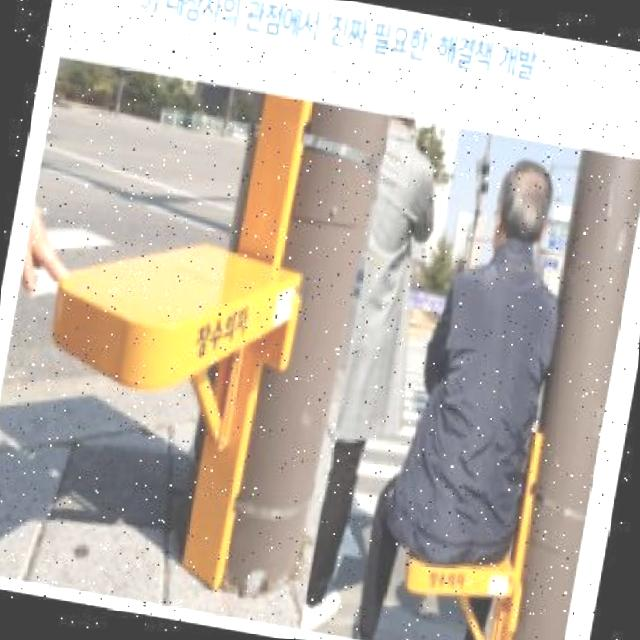Person: (351, 141, 586, 640)
